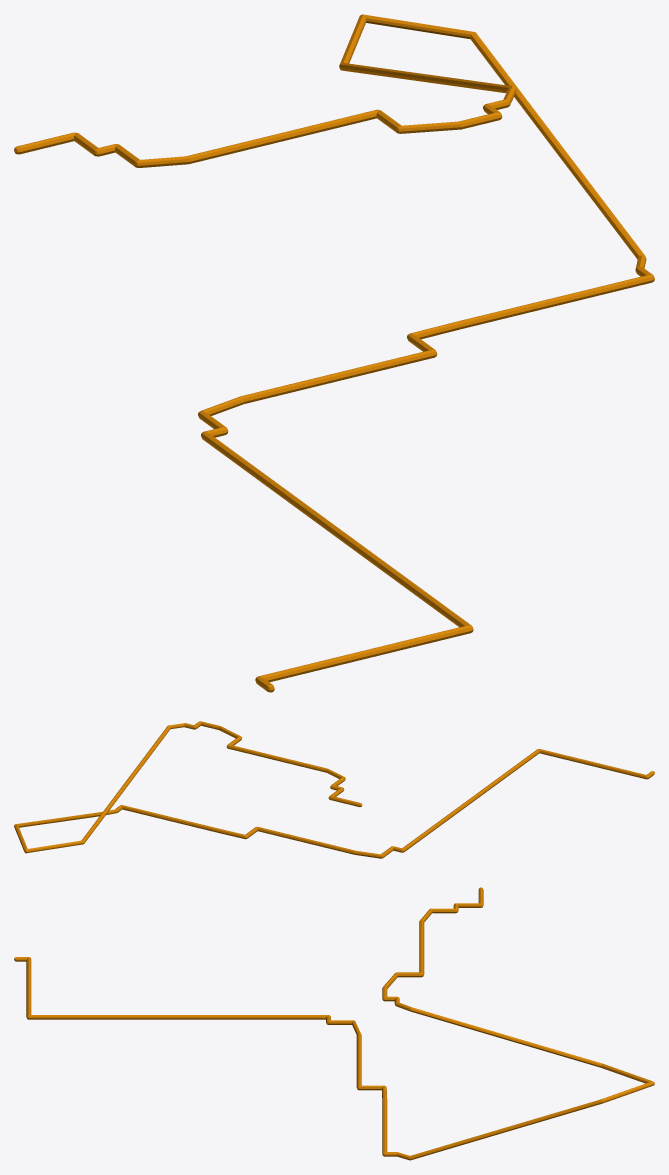
3 renders of one model, top to bottom at view 1: azimuth 30°, elevation 25°; view 2: azimuth 150°, elevation 25°; view 3: azimuth 270°, elevation 25°, orthographic. The views are drawn at different scales.
Bounding box in the file's own units: 1905 × 520 × 2567.
